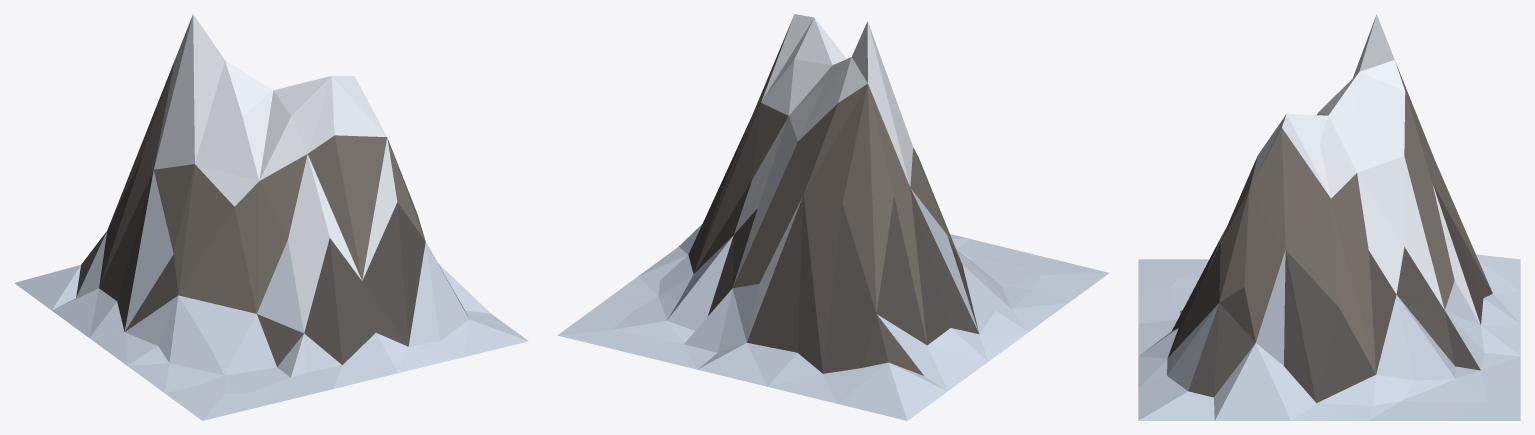
The model's file is mountain_snow_b.glb.
3 views of the same model, side by side, from view 1: azimuth 30°, elevation 25°; view 2: azimuth 150°, elevation 25°; view 3: azimuth 270°, elevation 25° (orthographic). The views are drawn at different scales.
Parts seen in each view (by area): view 1: mountain_snow_b; view 2: mountain_snow_b; view 3: mountain_snow_b.
Part boxes in pixels (left/top/right/bottom): mountain_snow_b: left=14, top=14, right=528, bottom=420; mountain_snow_b: left=557, top=14, right=1108, bottom=420; mountain_snow_b: left=1138, top=14, right=1520, bottom=420.
Bounding box in the file's own units: 4 × 3.45 × 4.
